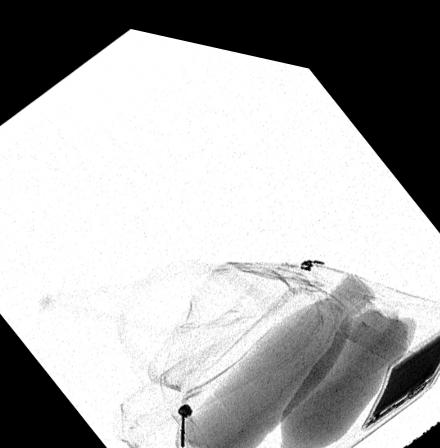Powerbank: (360, 308, 440, 414)
